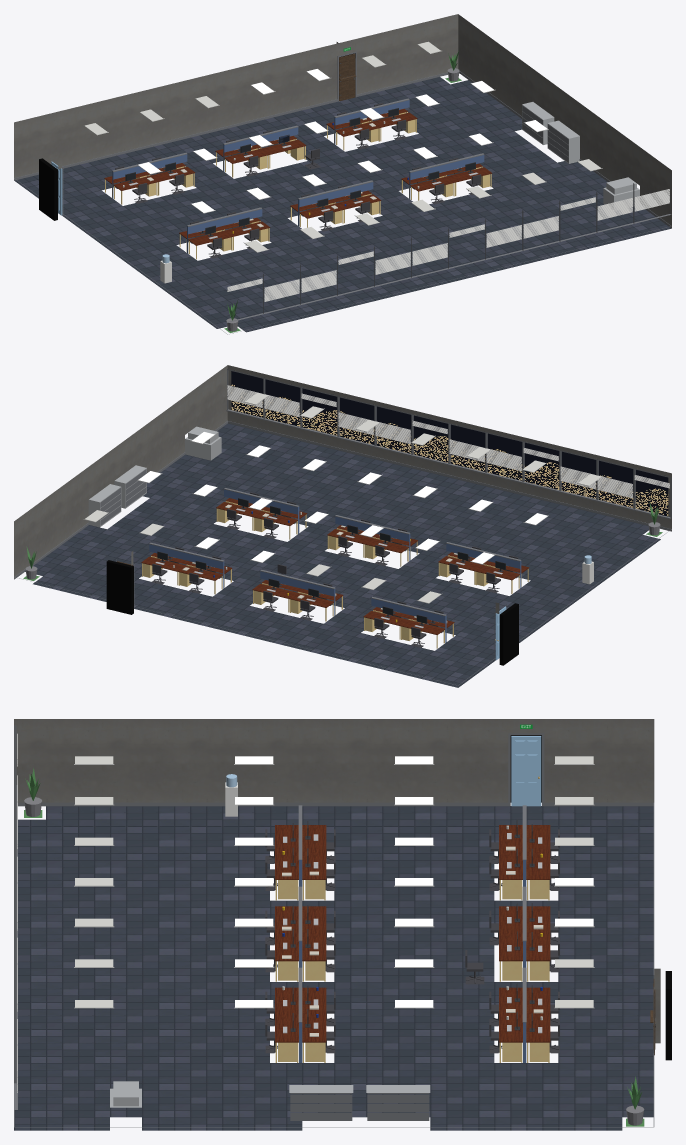
The model's file is rdwe_office_night.glb.
The picture shows the model from 3 angles, top to bottom: view 1: azimuth 30°, elevation 25°; view 2: azimuth 150°, elevation 25°; view 3: azimuth 270°, elevation 25°; orthographic projection. The views are drawn at different scales.
Parts seen in each view (by area): view 1: Carpet_Tiles, Paint_Office, Trim_Dark, Blind_Slats, Desk_Top, Fabric_Partition, Chair_Black, Steel, Lamp_Emit, Cabinet_Grey, Lamp_Off, Void_Black (+4 smaller); view 2: Carpet_Tiles, Paint_Office, Window_City, Trim_Dark, Desk_Top, Blind_Slats, Fabric_Partition, Chair_Black, Steel, Void_Black, Lamp_Emit, Cabinet_Grey (+4 smaller); view 3: Carpet_Tiles, Paint_Office, Desk_Top, Trim_Dark, Steel, Lamp_Emit, Chair_Black, Lamp_Off, DoorLeaf_stairs, Cabinet_Grey, Trim_White, Plastic_Black (+5 smaller).
Boxes of the visible parts, box(x1,y1,x2,y2) form: Carpet_Tiles: box(14, 77, 671, 332); Paint_Office: box(14, 14, 671, 227); Trim_Dark: box(14, 51, 671, 334); Blind_Slats: box(227, 189, 669, 301); Desk_Top: box(104, 108, 492, 245); Fabric_Partition: box(112, 100, 484, 253); Chair_Black: box(115, 103, 481, 258); Steel: box(105, 112, 491, 259); Lamp_Emit: box(138, 69, 547, 212); Cabinet_Grey: box(522, 102, 639, 210); Lamp_Off: box(85, 41, 600, 251); Void_Black: box(39, 53, 355, 220); Carpet_Tiles: box(25, 423, 660, 687); Paint_Office: box(14, 365, 671, 613); Window_City: box(231, 371, 668, 516); Trim_Dark: box(14, 369, 671, 685); Desk_Top: box(141, 498, 529, 635); Blind_Slats: box(227, 385, 669, 498); Fabric_Partition: box(149, 489, 521, 642); Chair_Black: box(151, 492, 518, 647); Steel: box(142, 501, 528, 648); Void_Black: box(106, 560, 518, 665); Lamp_Emit: box(138, 432, 547, 563); Cabinet_Grey: box(88, 426, 221, 527); Carpet_Tiles: box(14, 806, 653, 1130); Paint_Office: box(14, 719, 660, 1043); Desk_Top: box(275, 825, 550, 1042); Trim_Dark: box(14, 725, 654, 1127); Steel: box(275, 880, 549, 1062); Lamp_Emit: box(235, 756, 593, 1007); Chair_Black: box(265, 829, 559, 1053); Lamp_Off: box(75, 756, 593, 1007); DoorLeaf_stairs: box(511, 736, 541, 806); Cabinet_Grey: box(110, 1081, 430, 1107); Trim_White: box(74, 764, 594, 1008); Plastic_Black: box(290, 819, 534, 1031).
Bounding box in the file's own units: 24.59 × 3.05 × 20.55.
Materials: 29 (11 with a texture image).
